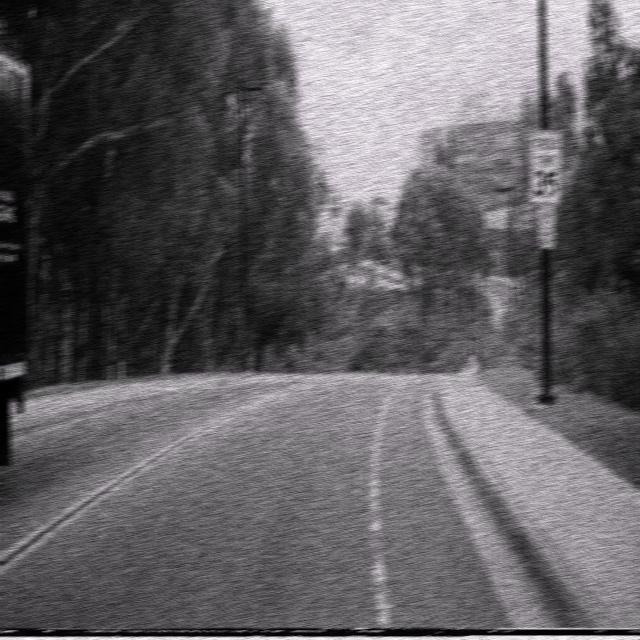speedLimit35: (528, 127, 563, 206)
